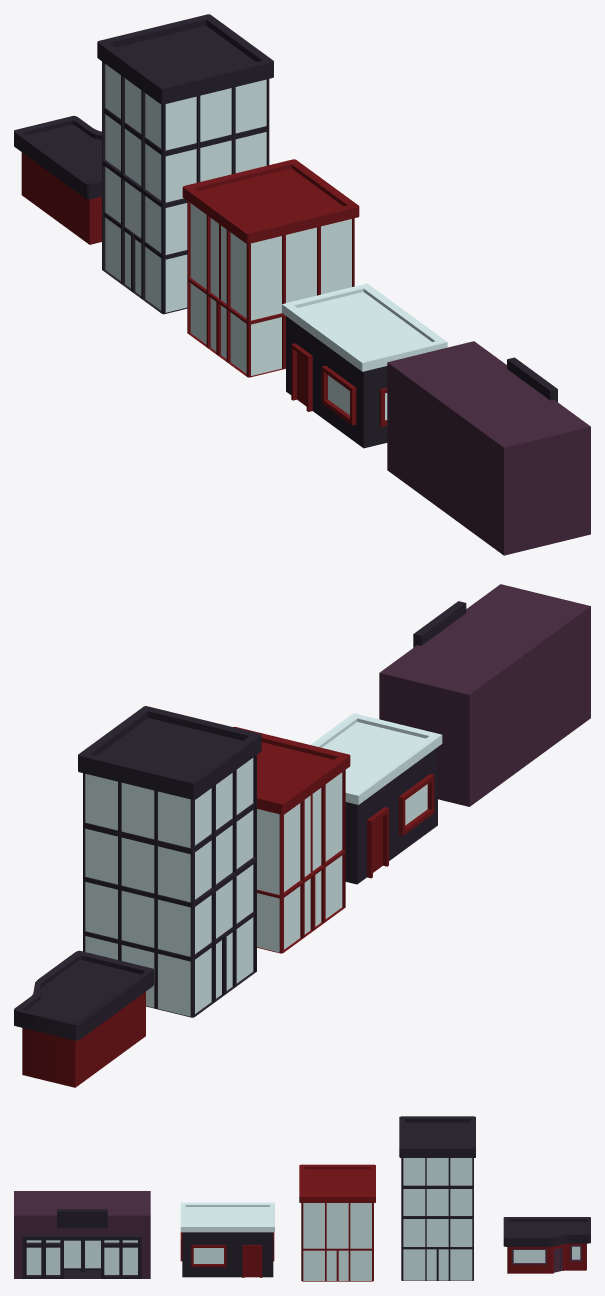
File: Edificios_oscuros-3.fbx
The picture shows the model from 3 angles, top to bottom: view 1: azimuth 30°, elevation 25°; view 2: azimuth 150°, elevation 25°; view 3: azimuth 270°, elevation 25°; orthographic projection. The views are drawn at different scales.
Visible parts, largest first — view 1: Cubo.003, Cubo.002, Cubo, Cubo.001, Edificio1; view 2: Cubo.003, Cubo.002, Cubo, Edificio1, Cubo.001; view 3: Cubo.003, Cubo.002, Cubo, Cubo.001, Edificio1.
Boxes of the visible parts, x1,y1,x2,y2 form: Cubo.003: (97,14,273,314); Cubo.002: (387,341,590,555); Cubo: (182,159,359,377); Cubo.001: (282,283,447,448); Edificio1: (14,115,101,244); Cubo.003: (78,706,261,1017); Cubo.002: (379,584,590,806); Cubo: (233,726,350,953); Edificio1: (14,950,153,1087); Cubo.001: (310,713,442,884); Cubo.003: (399,1116,475,1280); Cubo.002: (14,1191,150,1278); Cubo: (299,1164,375,1281); Cubo.001: (180,1202,274,1277); Edificio1: (503,1217,590,1273).
Size of the model in its own units: 420 by 810 by 3165.
